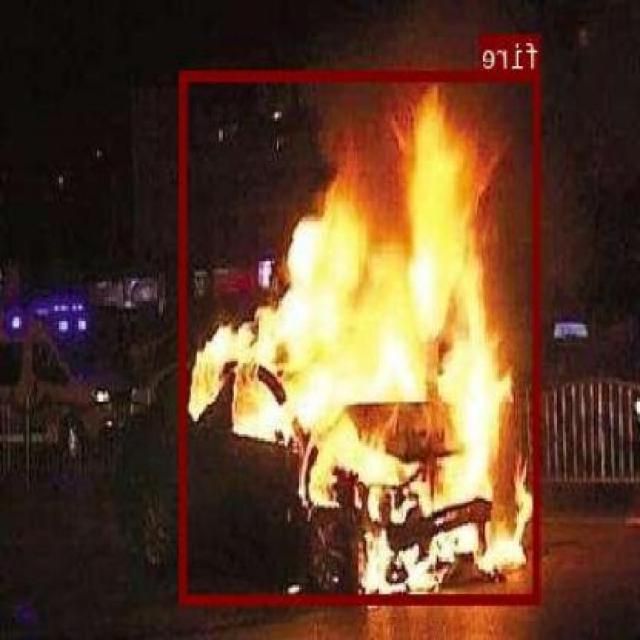Fire: (182, 69, 542, 603)
